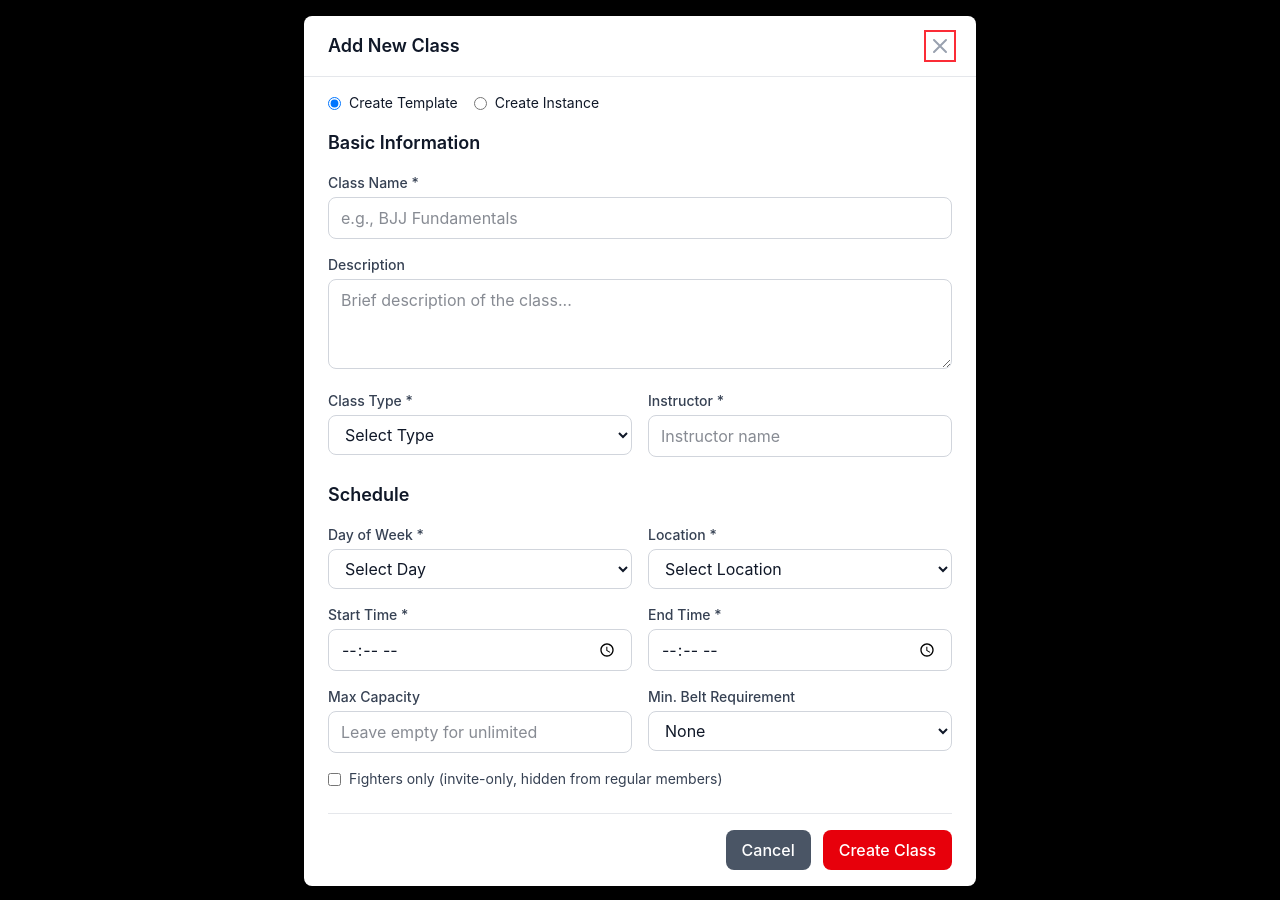
AddClassModal › hides day of week in instance mode
Click the radio button labelled "Create Instance": (480, 103) [474,96,487,110]
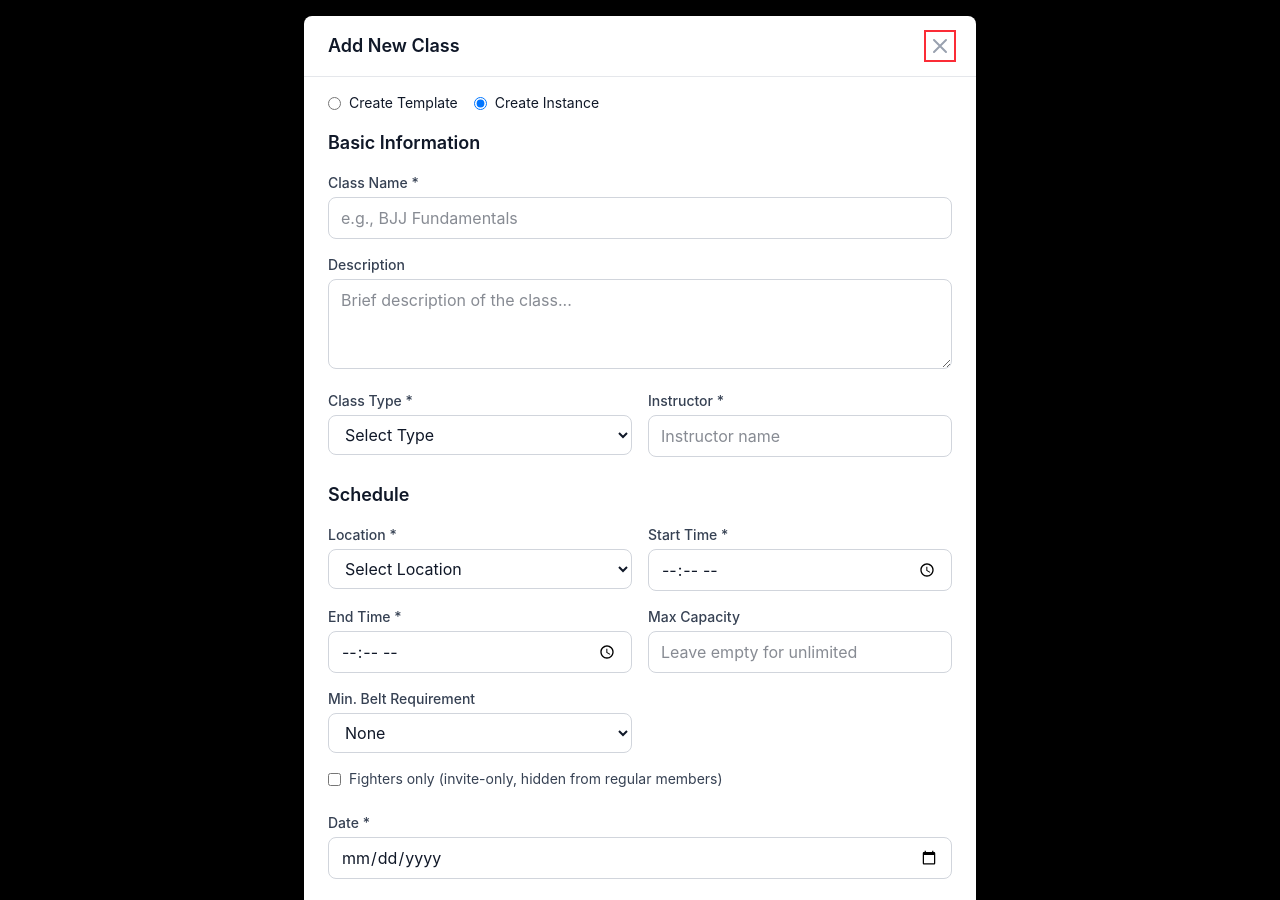
Expected: the dropdown named "day_of_week" is gone
